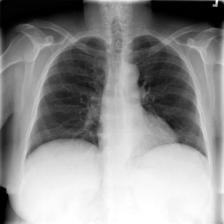normal: (18, 30, 212, 164)
